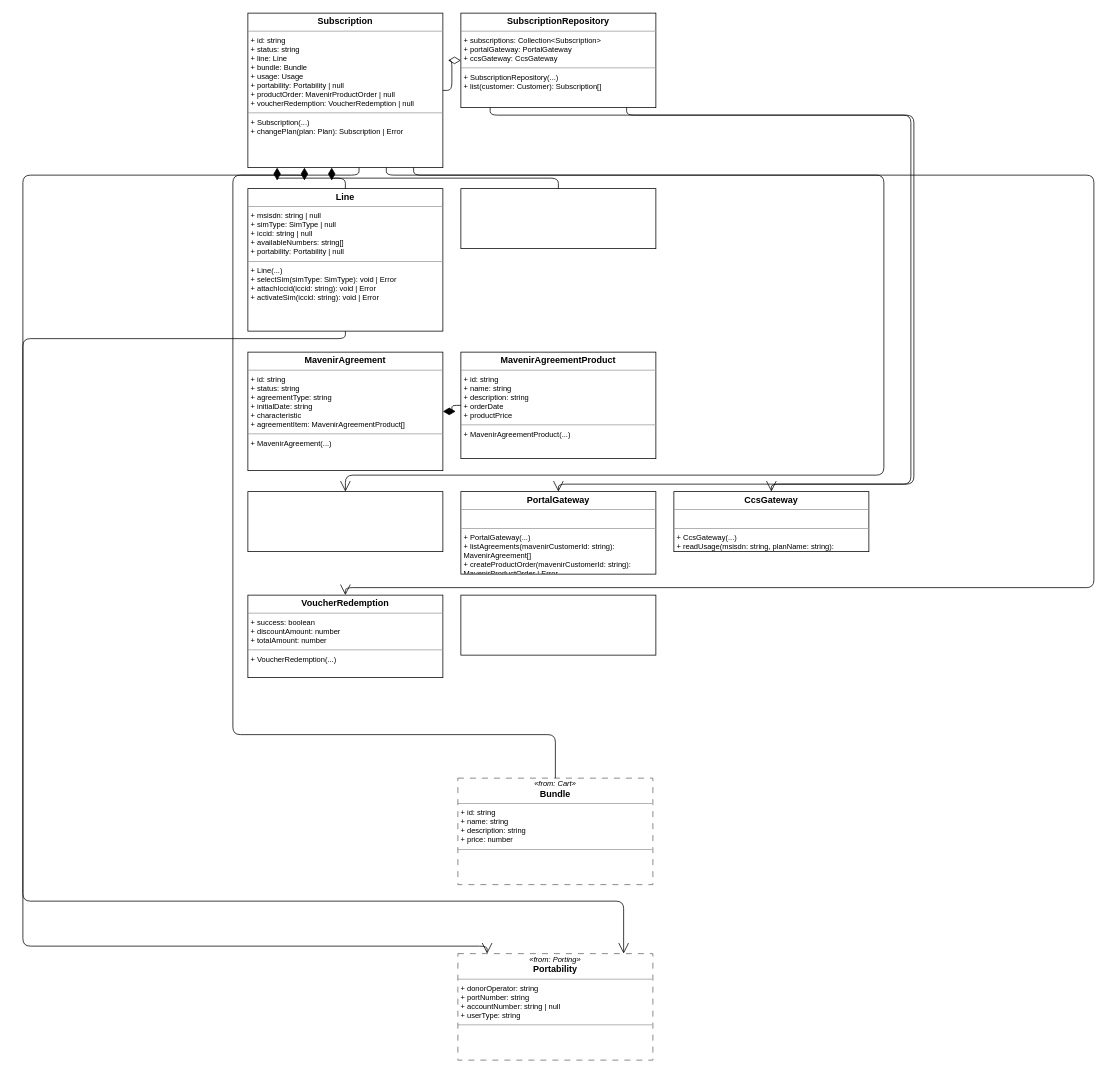
Image size: 1118x1073. Some labels were removed from this diagram. The box of each missing label's shape, as (x1, y1, x2, y2) in pixels:
MavenirProductOrder + id: string + MavenirProductOrder(...): (247, 491, 443, 552)
MsisdnDataUsage + MsisdnDataUsage(...): (460, 594, 656, 655)
Usage + Usage(...): (460, 188, 656, 249)
